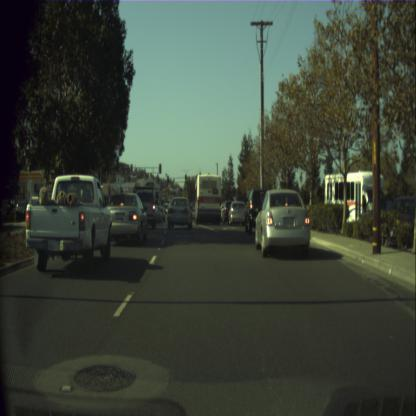Green: (184, 174, 186, 182)
Red: (166, 175, 168, 182)
